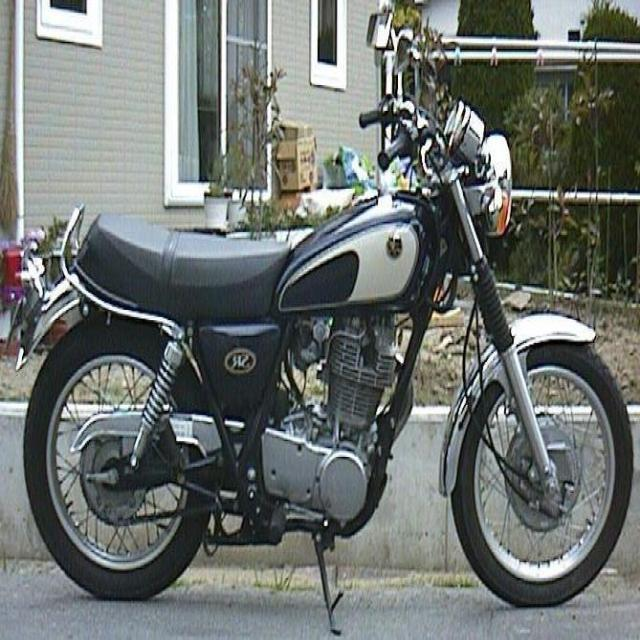Motorcycle: (11, 113, 639, 606)
